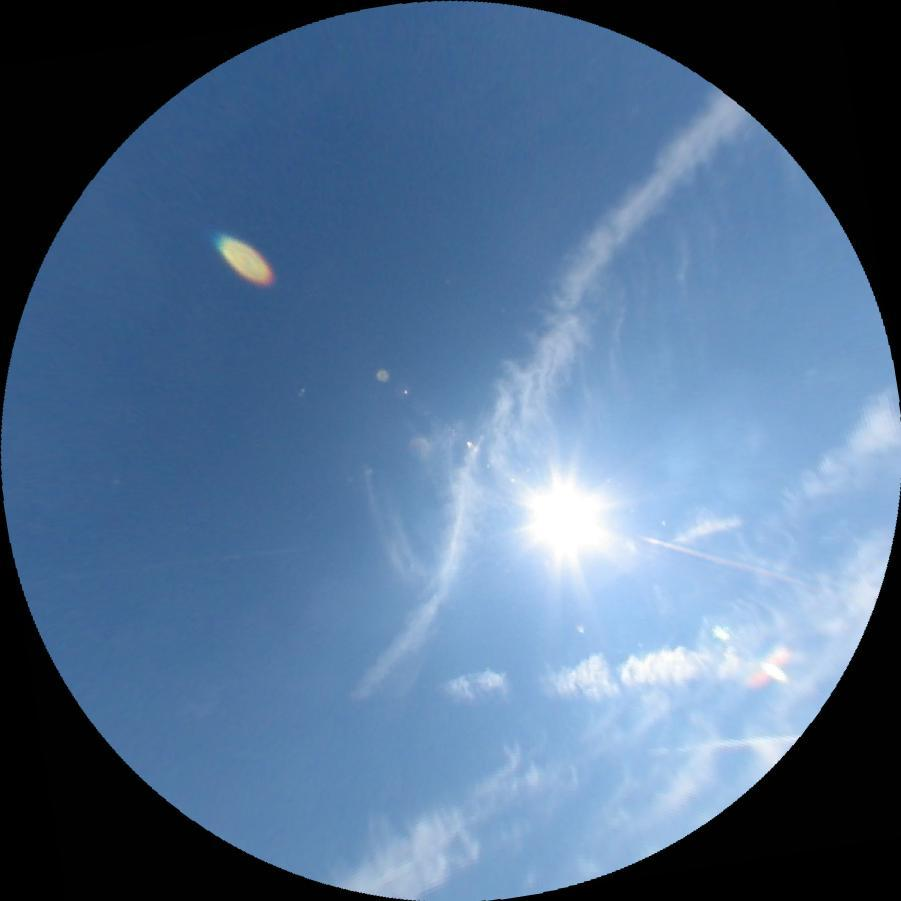contrail veryold: (308, 66, 752, 723), (326, 117, 846, 604), (440, 631, 742, 719)
parasite: (636, 528, 822, 593)
sun: (510, 464, 617, 569)
unknow: (640, 736, 792, 753)
